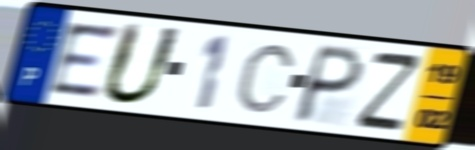1: (199, 34, 231, 114)
C: (234, 42, 299, 115)
E: (47, 20, 122, 99)
P: (290, 42, 368, 126)
U: (97, 19, 187, 108)
Z: (353, 50, 424, 133)
